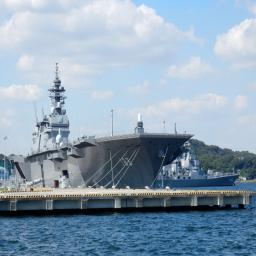Portanaves: (4, 60, 196, 197)
